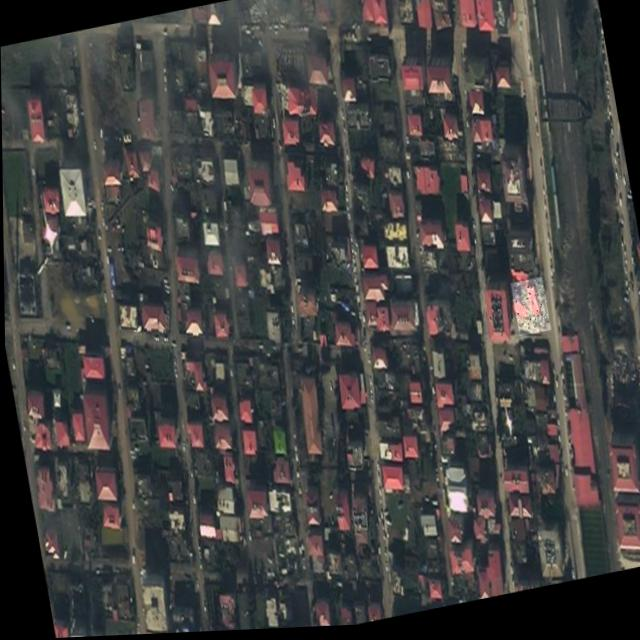Rubble: (510, 282, 550, 341)
